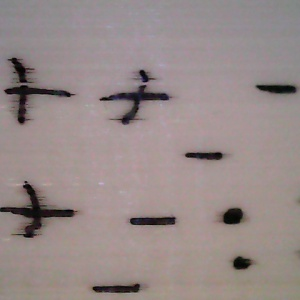3dpdot: (214, 197, 252, 231), (226, 248, 257, 275)
3dpminus: (125, 205, 184, 236), (86, 277, 152, 300), (254, 78, 299, 106), (183, 141, 226, 170)
3dpplus: (1, 56, 83, 136), (1, 174, 83, 252), (103, 66, 184, 130)
